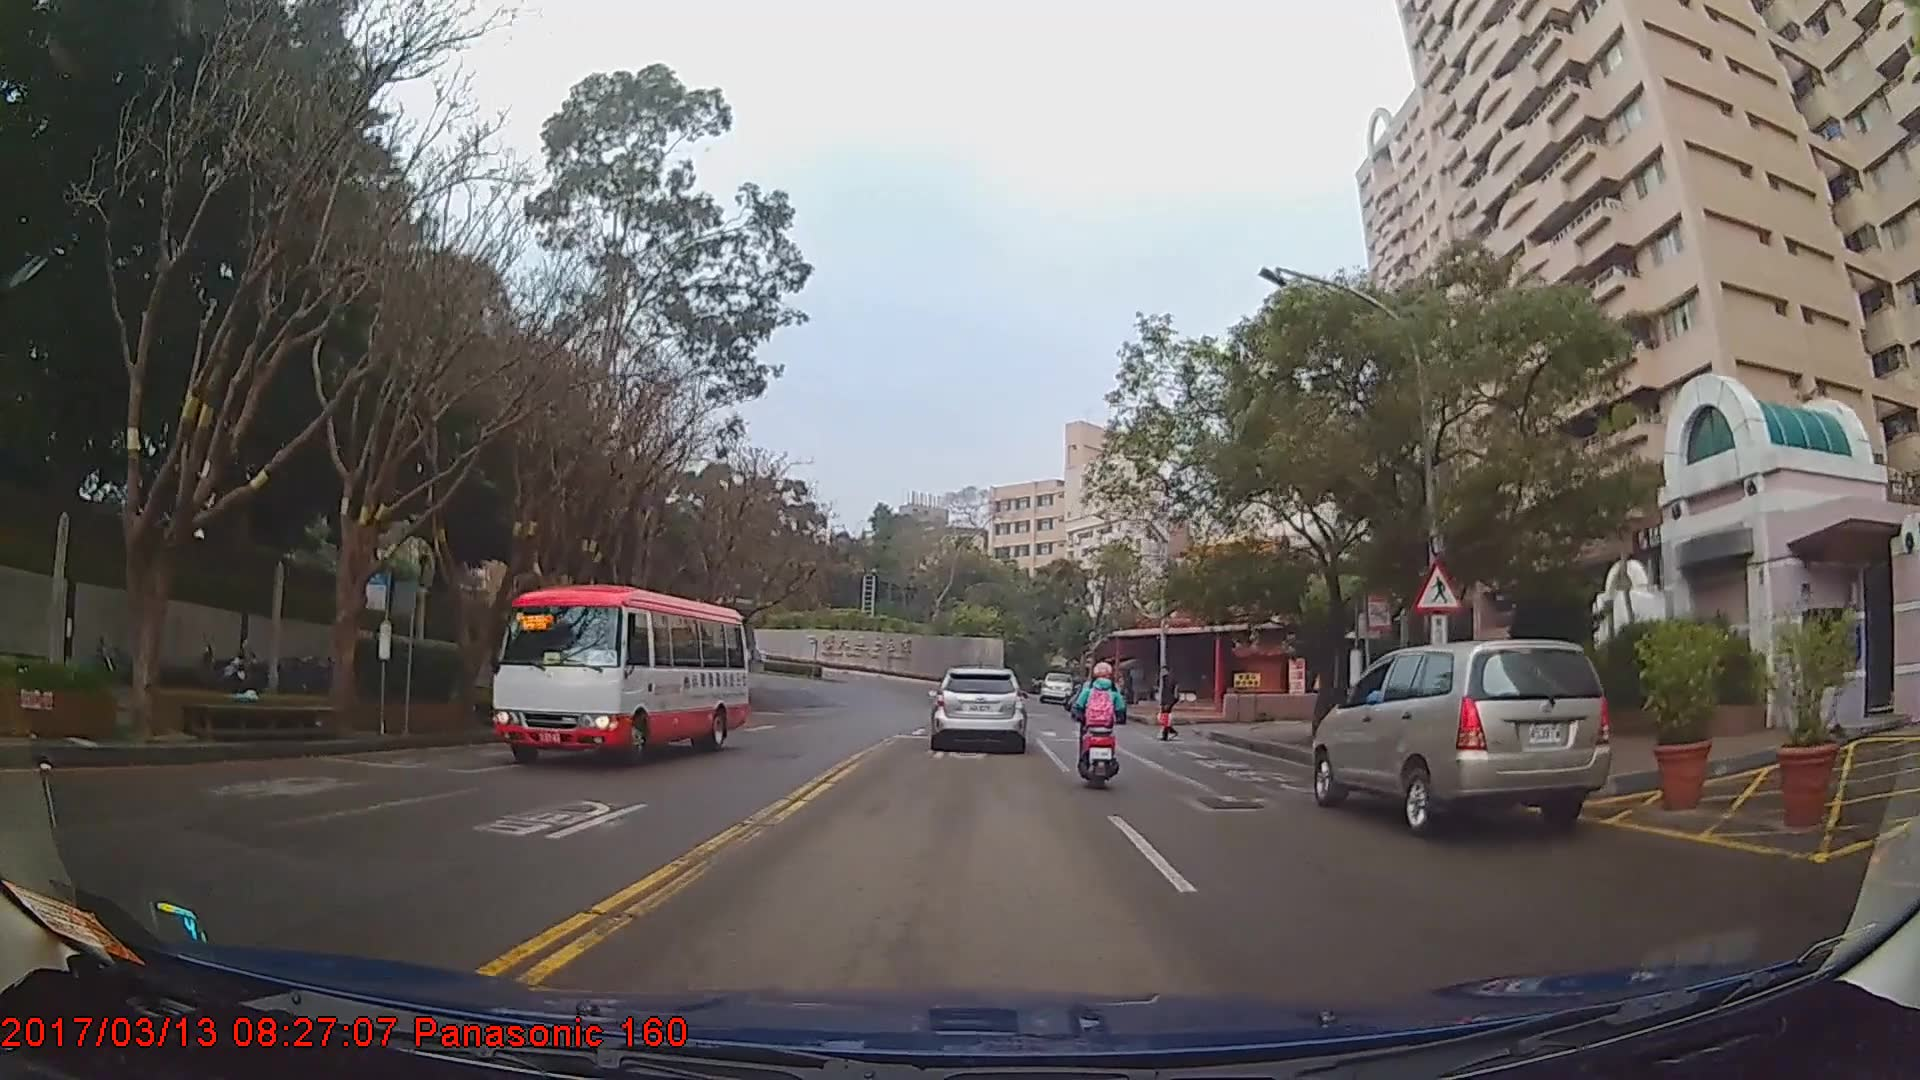pedestrian: (1156, 668, 1183, 747)
rider: (1071, 665, 1127, 795)
vehicle: (1310, 637, 1613, 836), (484, 584, 746, 767), (926, 668, 1028, 755), (1039, 672, 1074, 702)
